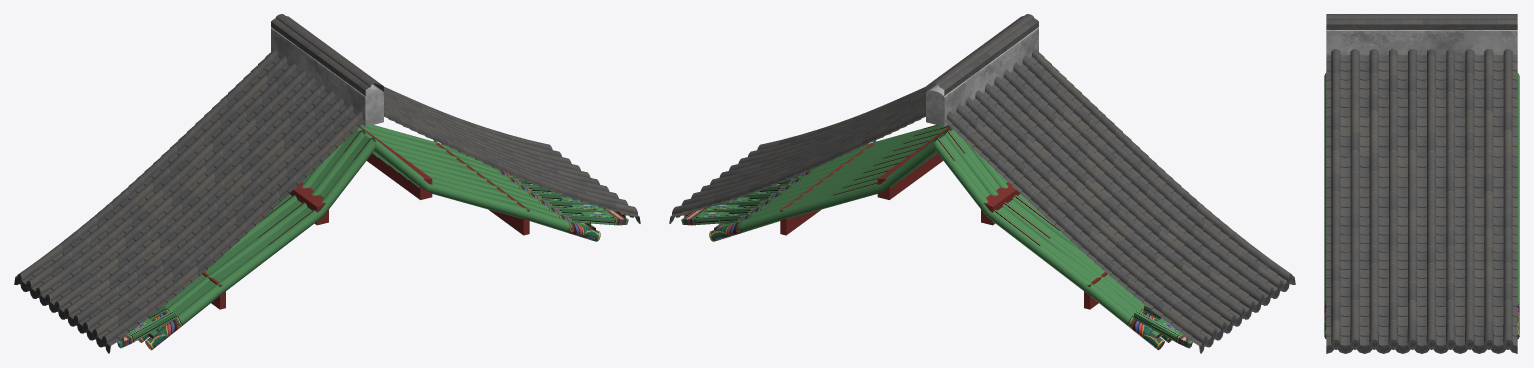
Rendered from SM_Castle_Roof01a.fbx.
The picture shows the model from 3 angles, left to right: view 1: azimuth 30°, elevation 25°; view 2: azimuth 150°, elevation 25°; view 3: azimuth 270°, elevation 25°; orthographic projection.
Visible parts, largest first — view 1: SM_Castle_Roof01a; view 2: SM_Castle_Roof01a; view 3: SM_Castle_Roof01a.
Part boxes in pixels (left/top/right/bottom): SM_Castle_Roof01a: left=14, top=14, right=640, bottom=353; SM_Castle_Roof01a: left=669, top=14, right=1295, bottom=353; SM_Castle_Roof01a: left=1324, top=14, right=1519, bottom=353.
Size of the model in its own units: 976 by 306 by 374.
2 materials, 2 textured.
